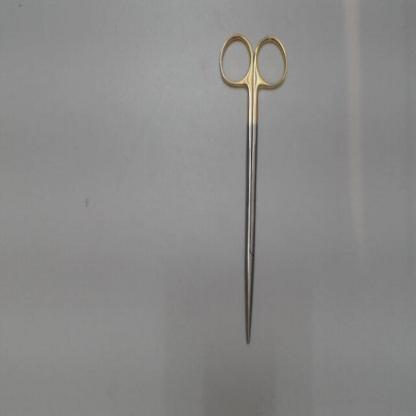7 Metzenbaum Scissors: (218, 30, 290, 344)
